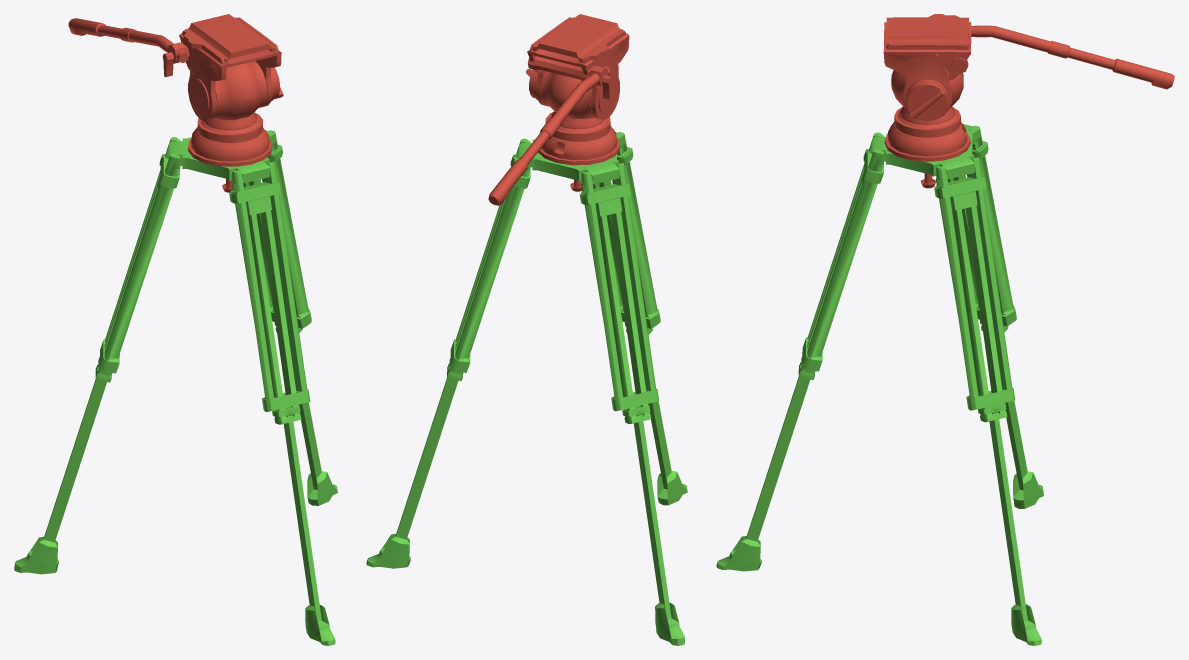
The model's file is Modern High End Tripod Low.fbx.
The picture shows the model from 3 angles, left to right: view 1: azimuth 30°, elevation 25°; view 2: azimuth 150°, elevation 25°; view 3: azimuth 270°, elevation 25°; orthographic projection. The views are drawn at different scales.
Parts seen in each view (by area): view 1: Cylinder.002; view 2: Cylinder.002; view 3: Cylinder.002.
Boxes of the visible parts, x1,y1,x2,y2 form: Cylinder.002: (14, 14, 337, 645); Cylinder.002: (366, 14, 687, 645); Cylinder.002: (716, 14, 1174, 645).
Size of the model in its own units: 97.04 by 156 by 118.
